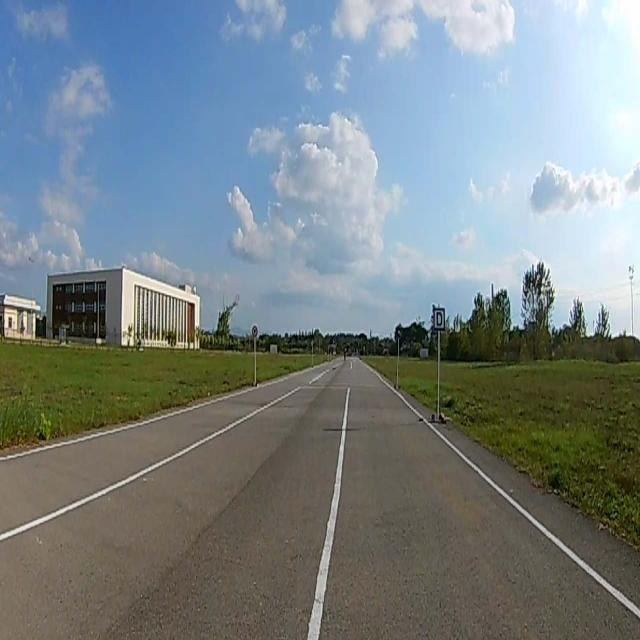durak: (433, 308, 445, 331)
